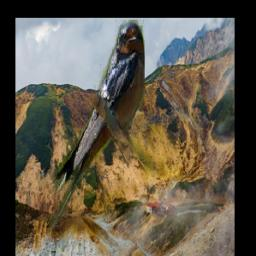Swallow: (51, 21, 146, 229)
